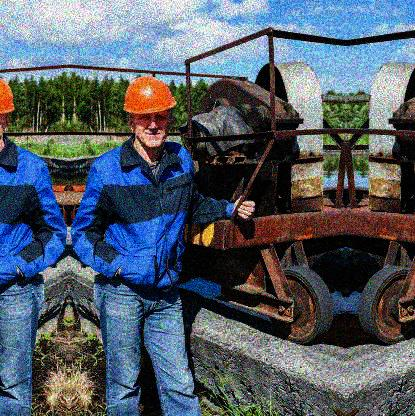helmet: (123, 74, 178, 154)
